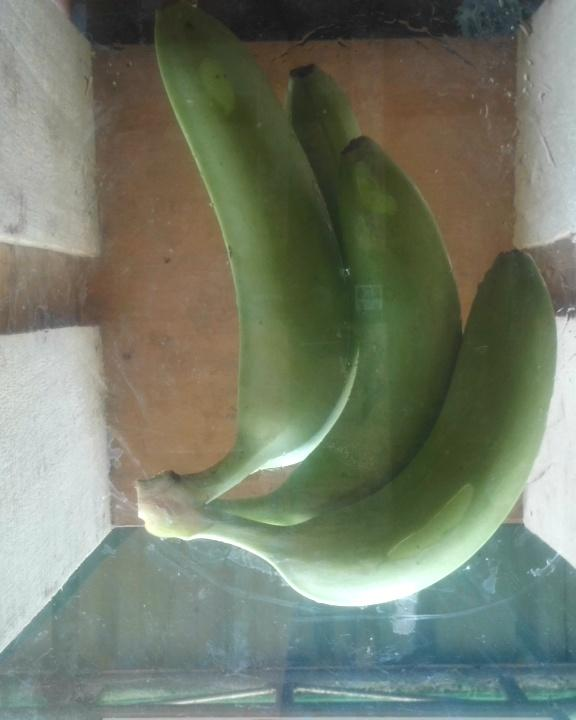SPOT: (118, 1, 569, 612)
